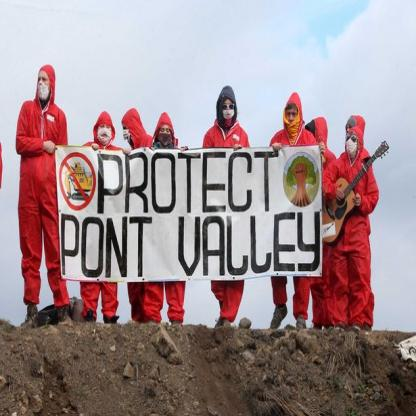person: (264, 69, 331, 348), (18, 60, 71, 332), (197, 63, 247, 340), (148, 92, 192, 338), (87, 72, 118, 340), (116, 92, 147, 334), (346, 93, 374, 327)
